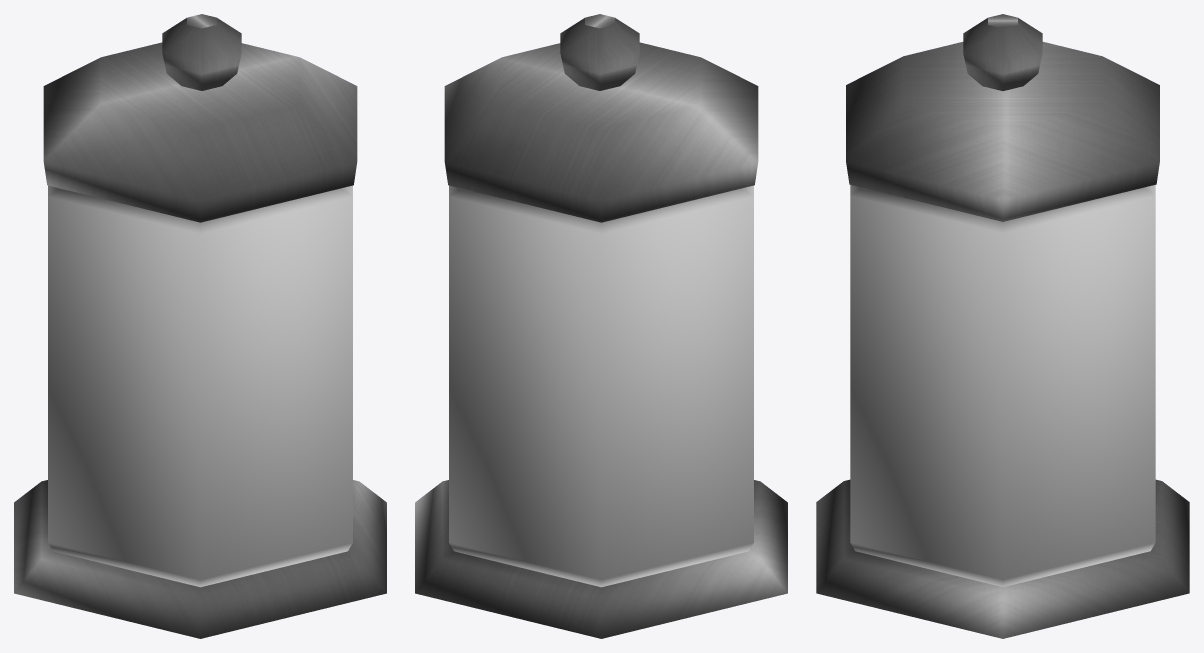
Rendered from Canister_B.FBX.
3 views of the same model, side by side, from view 1: azimuth 30°, elevation 25°; view 2: azimuth 150°, elevation 25°; view 3: azimuth 270°, elevation 25° (orthographic).
Parts seen in each view (by area): view 1: Canister_B; view 2: Canister_B; view 3: Canister_B.
Boxes of the visible parts, bbox=[...] form: Canister_B: bbox=[14, 14, 386, 638]; Canister_B: bbox=[415, 14, 787, 638]; Canister_B: bbox=[816, 14, 1189, 638].
Size of the model in its own units: 32.54 by 43.89 by 28.18.
